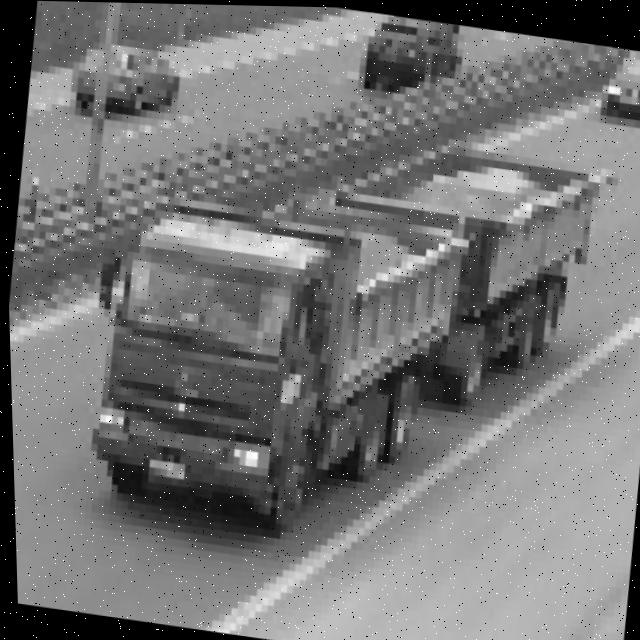truck: (63, 184, 365, 539)
